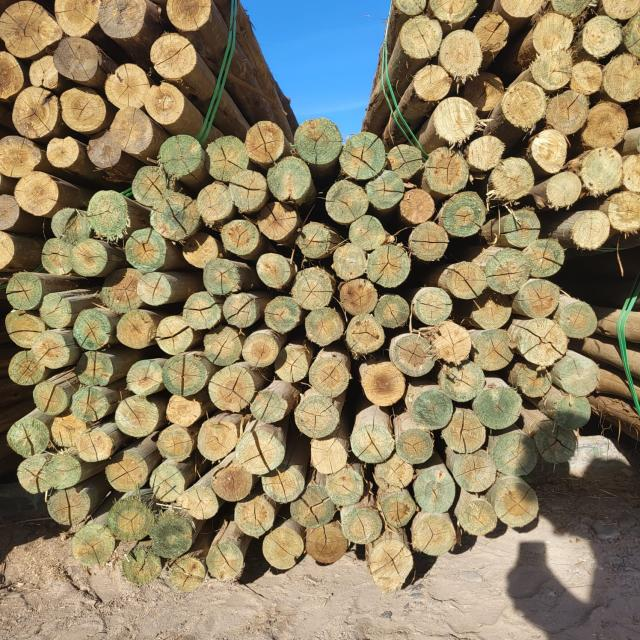package: (2, 119, 601, 591), (392, 0, 640, 250), (1, 1, 218, 262)
